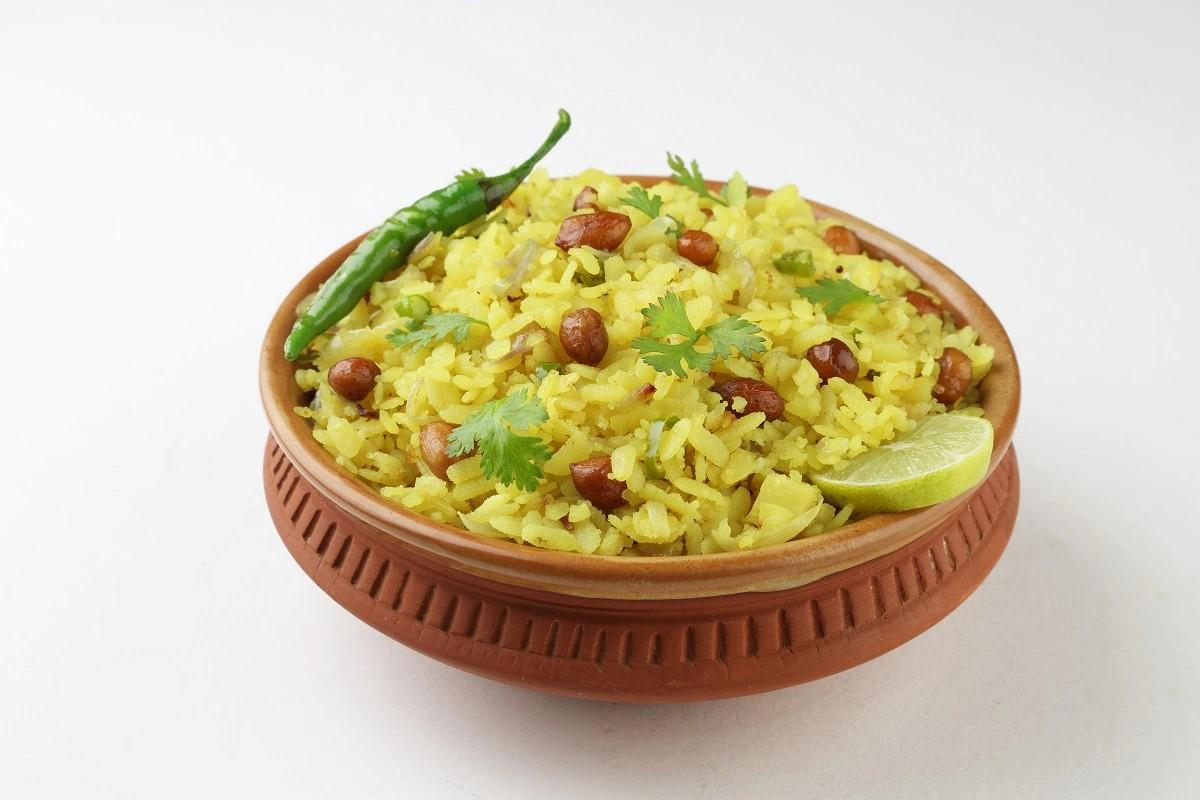Poha: (313, 164, 988, 562)
